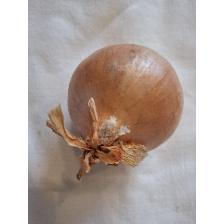Zwiebel: (47, 42, 186, 178)
